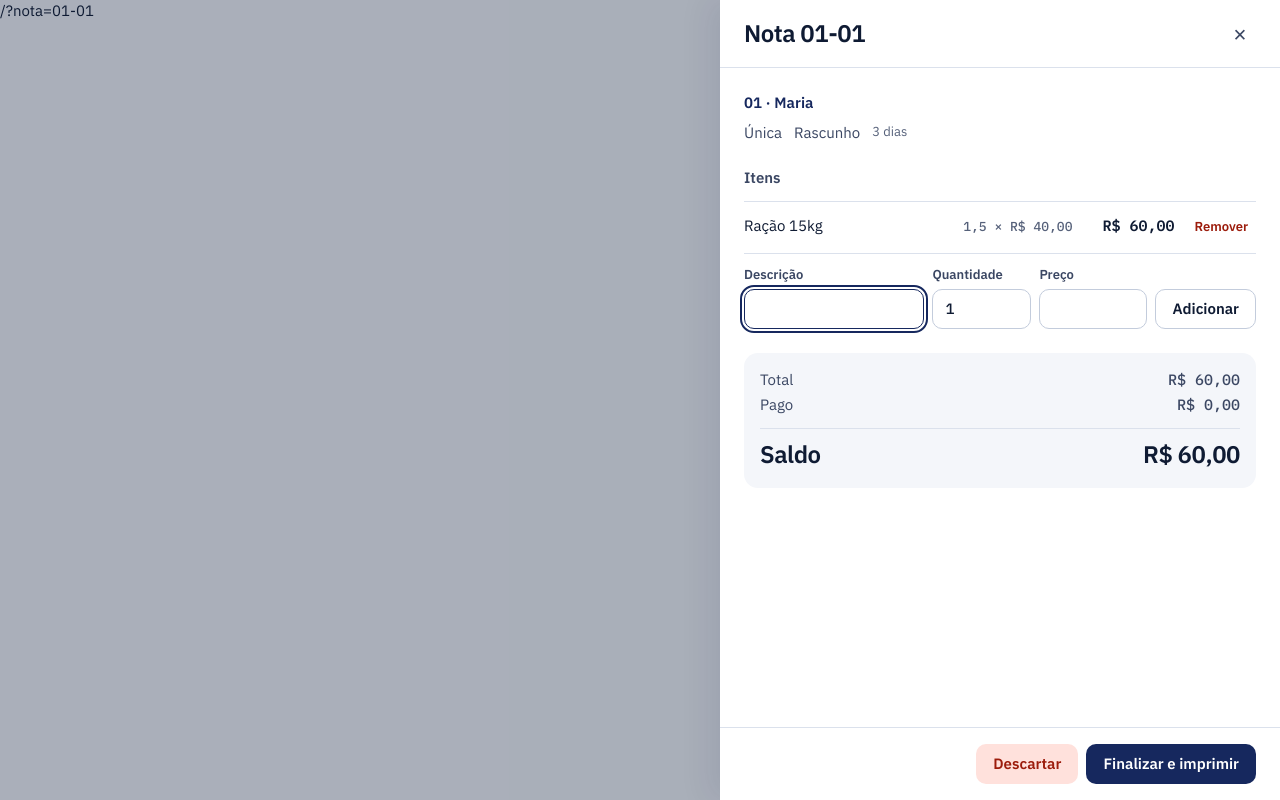
Test case: GavetaDaNota › adicionar item envia a versão da nota carregada e atualiza total e saldo sem novo GET
Type "Milho" into the dropdown labelled "Descrição".
click(834, 309); type("Milho")  # box [744, 289, 924, 329]
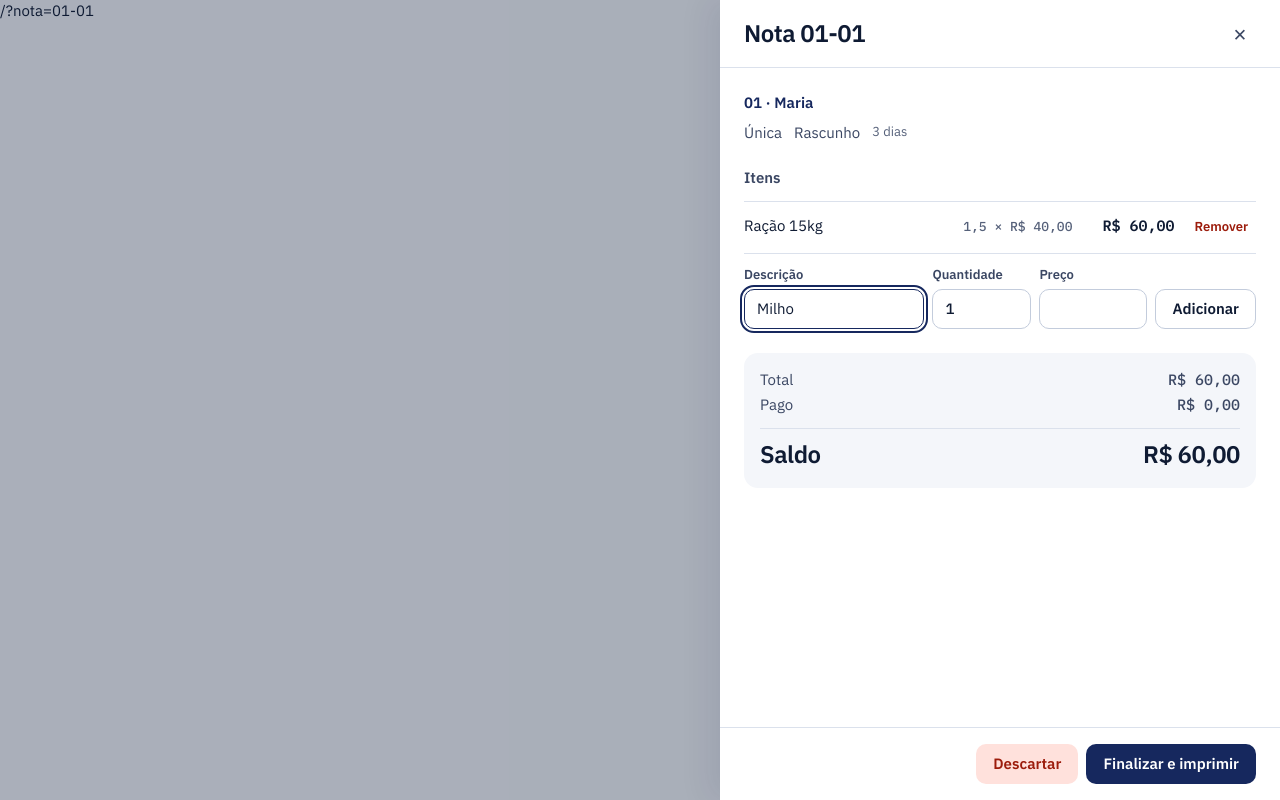
Replace the text in the field labelled "Quantidade" with "2" at (982, 309), box [932, 289, 1031, 329]
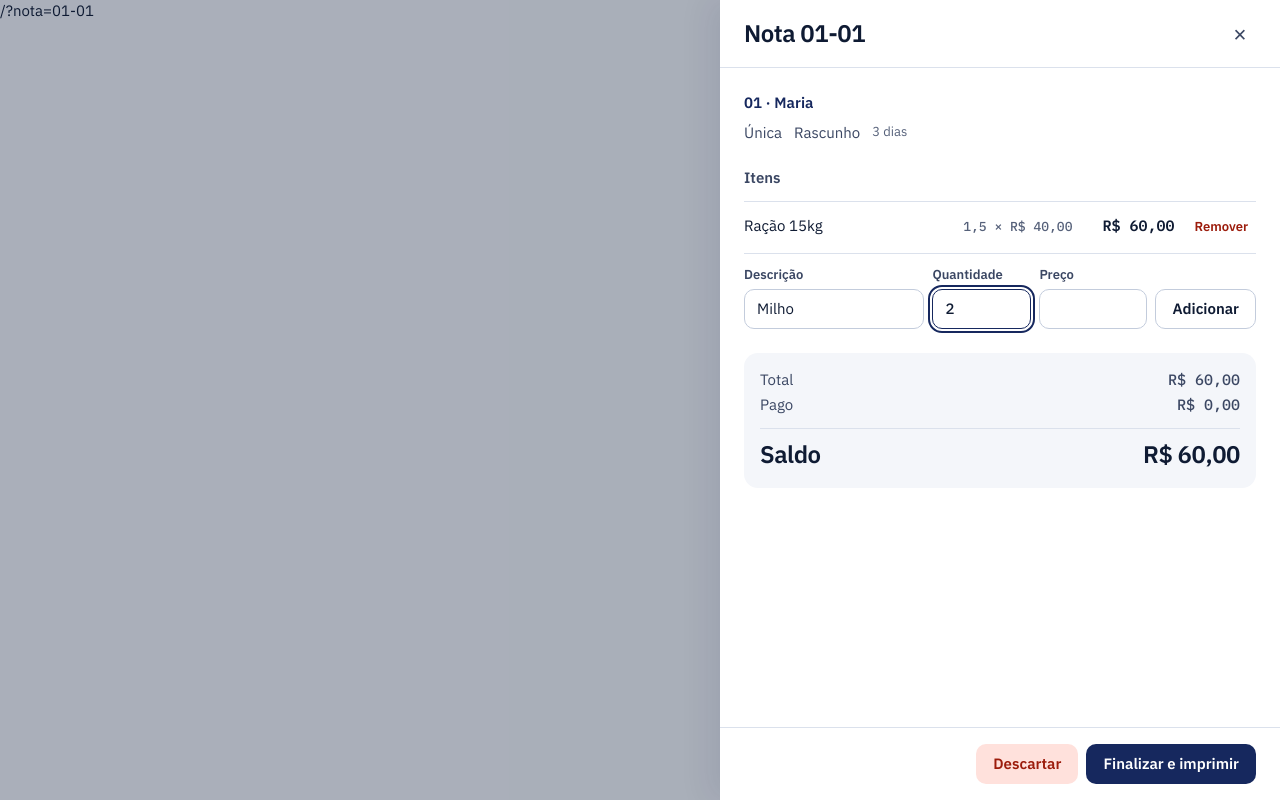
Type "50,00" into the field labelled "Preço".
click(1093, 309); type("50,00")  # box [1039, 289, 1147, 329]
Then press Enter
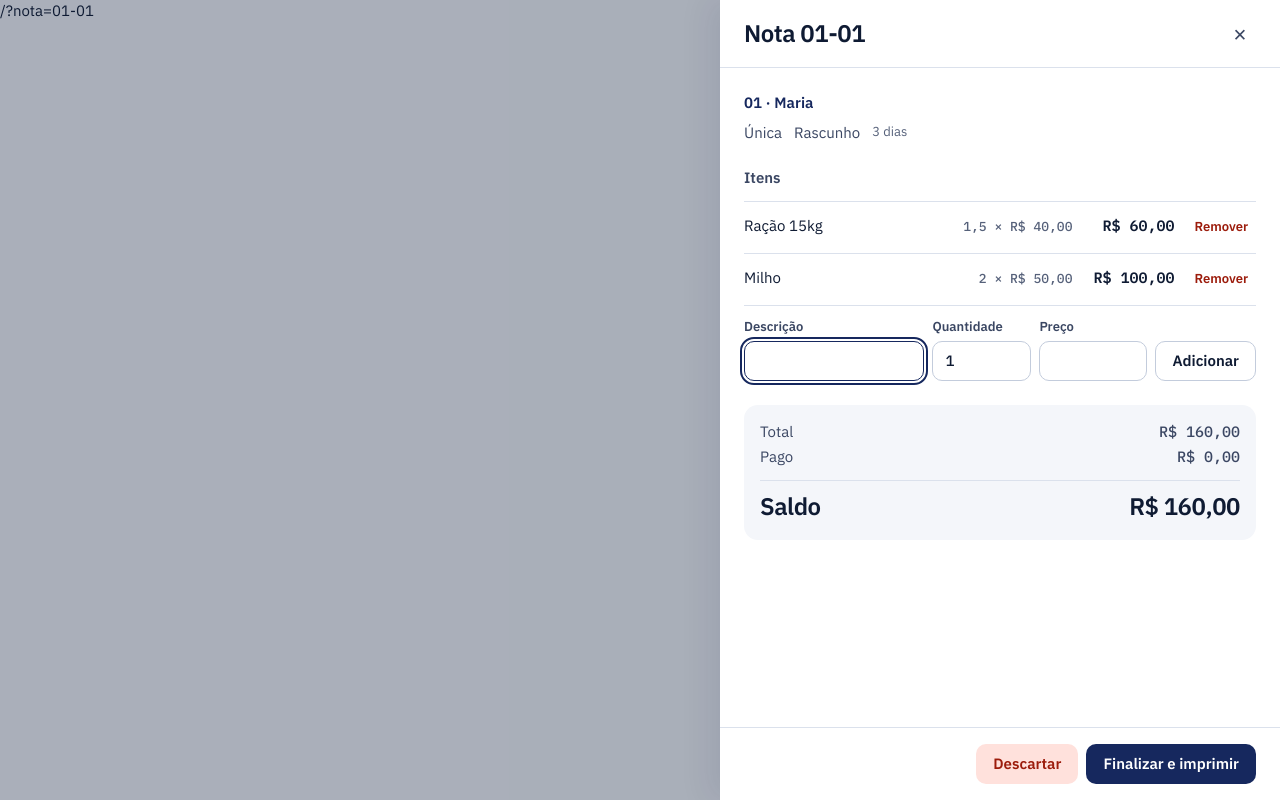
Expected: the text "Saldo" shows "R$ 160,00", [760, 480, 1240, 524]
Expected: the text "Total" shows "R$ 160,00", [760, 421, 1240, 442]
Expected: the list item "Milho" shows "R$ 100,00", [744, 254, 1256, 306]
